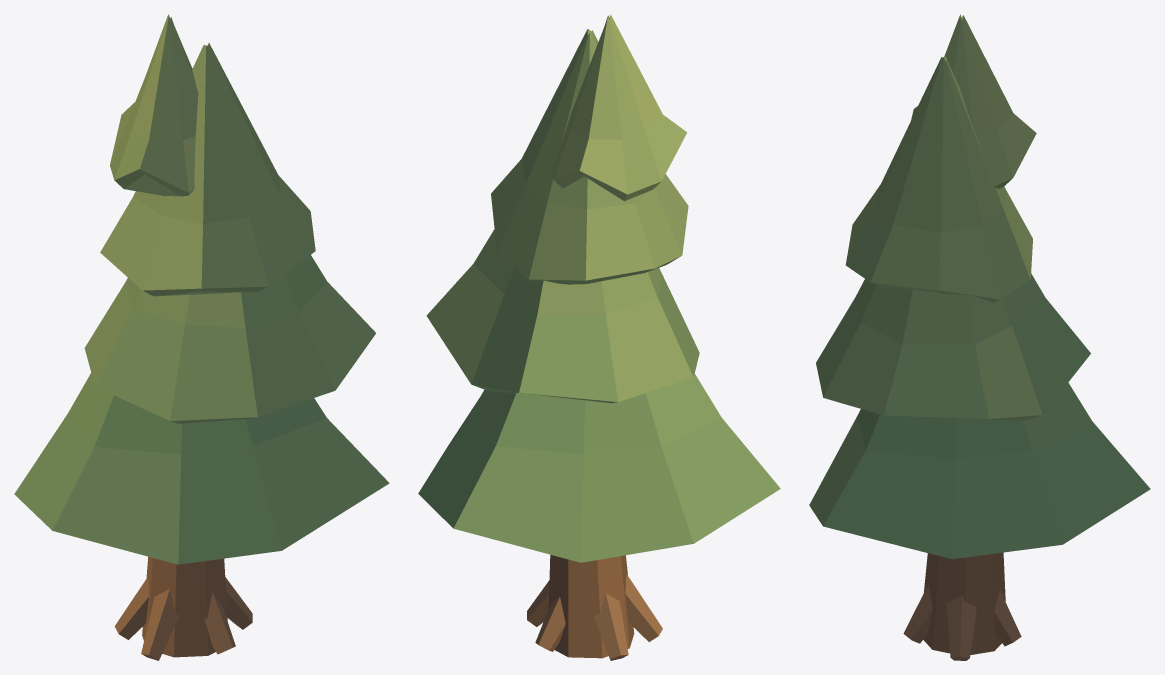
The model's file is forage_3_summer.glb.
3 renders of one model, left to right at view 1: azimuth 30°, elevation 25°; view 2: azimuth 150°, elevation 25°; view 3: azimuth 270°, elevation 25°, orthographic. The views are drawn at different scales.
Parts seen in each view (by area): view 1: Rohstoff 3 · summer; view 2: Rohstoff 3 · summer; view 3: Rohstoff 3 · summer.
Part boxes in pixels (<box>): Rohstoff 3 · summer: <box>14,14,389,660</box>; Rohstoff 3 · summer: <box>418,14,780,660</box>; Rohstoff 3 · summer: <box>809,14,1150,660</box>.
Bounding box in the file's own units: 2.57 × 4.95 × 2.49.
